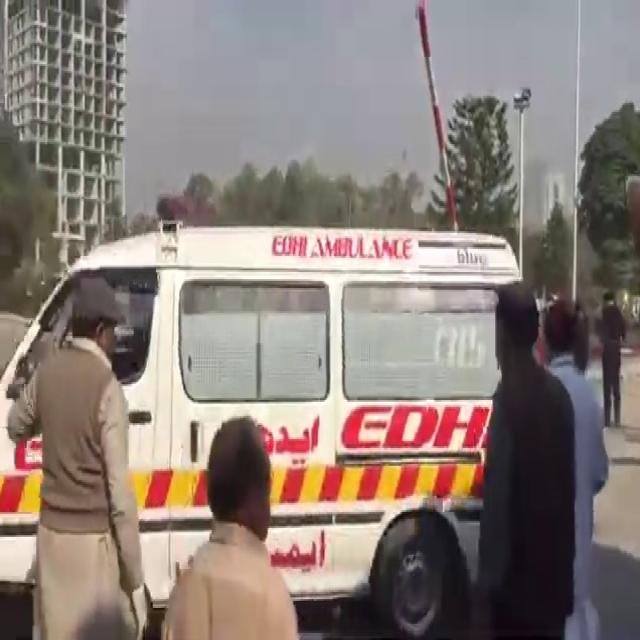ambulance: (21, 208, 514, 618)
